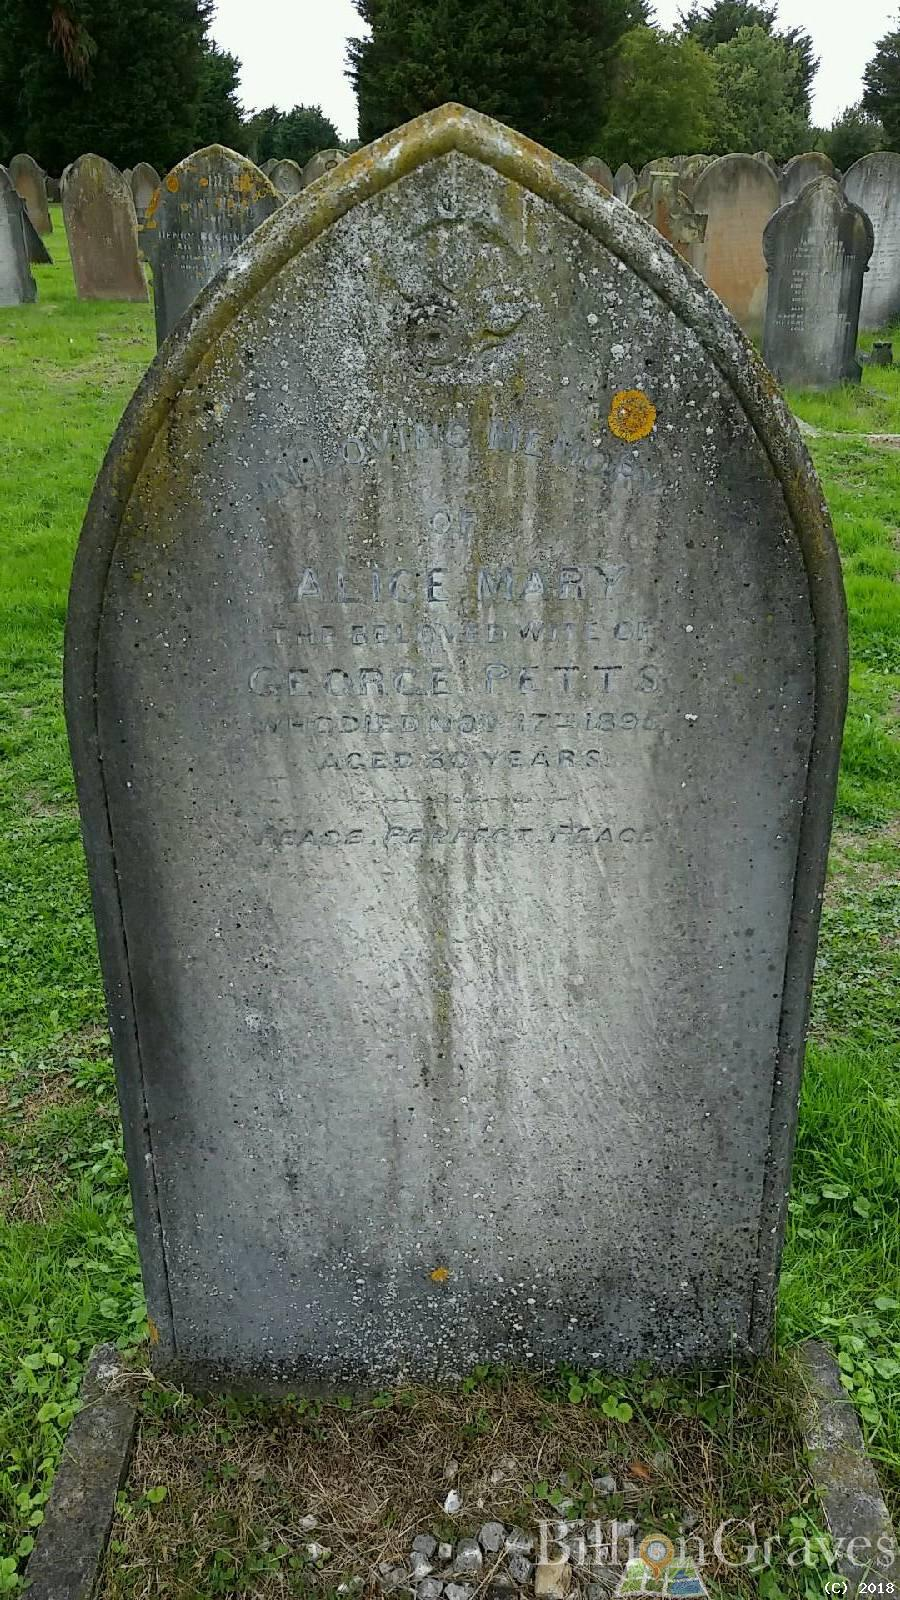upright: (65, 89, 851, 1371)
